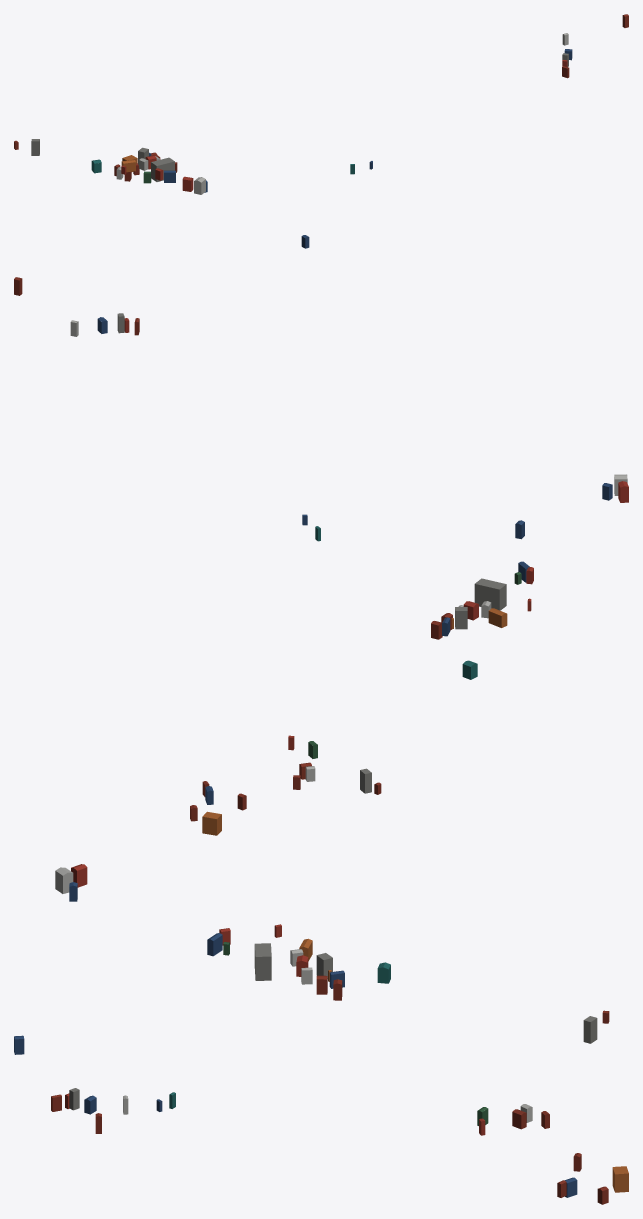
File: near-15-27362-14862.405714c8.glb
The picture shows the model from 3 angles, top to bottom: view 1: azimuth 30°, elevation 25°; view 2: azimuth 150°, elevation 25°; view 3: azimuth 270°, elevation 25°; orthographic projection. The views are drawn at different scales.
Bounding box in the file's own units: 868 × 379 × 690.
